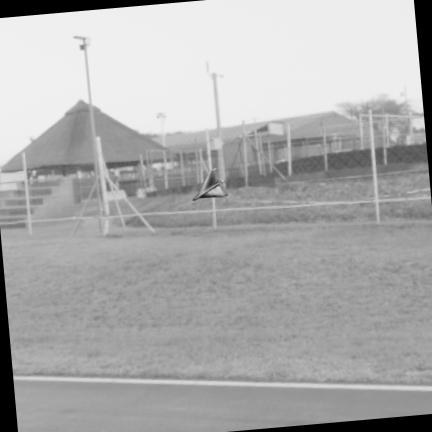Shahed: (193, 169, 228, 200)
